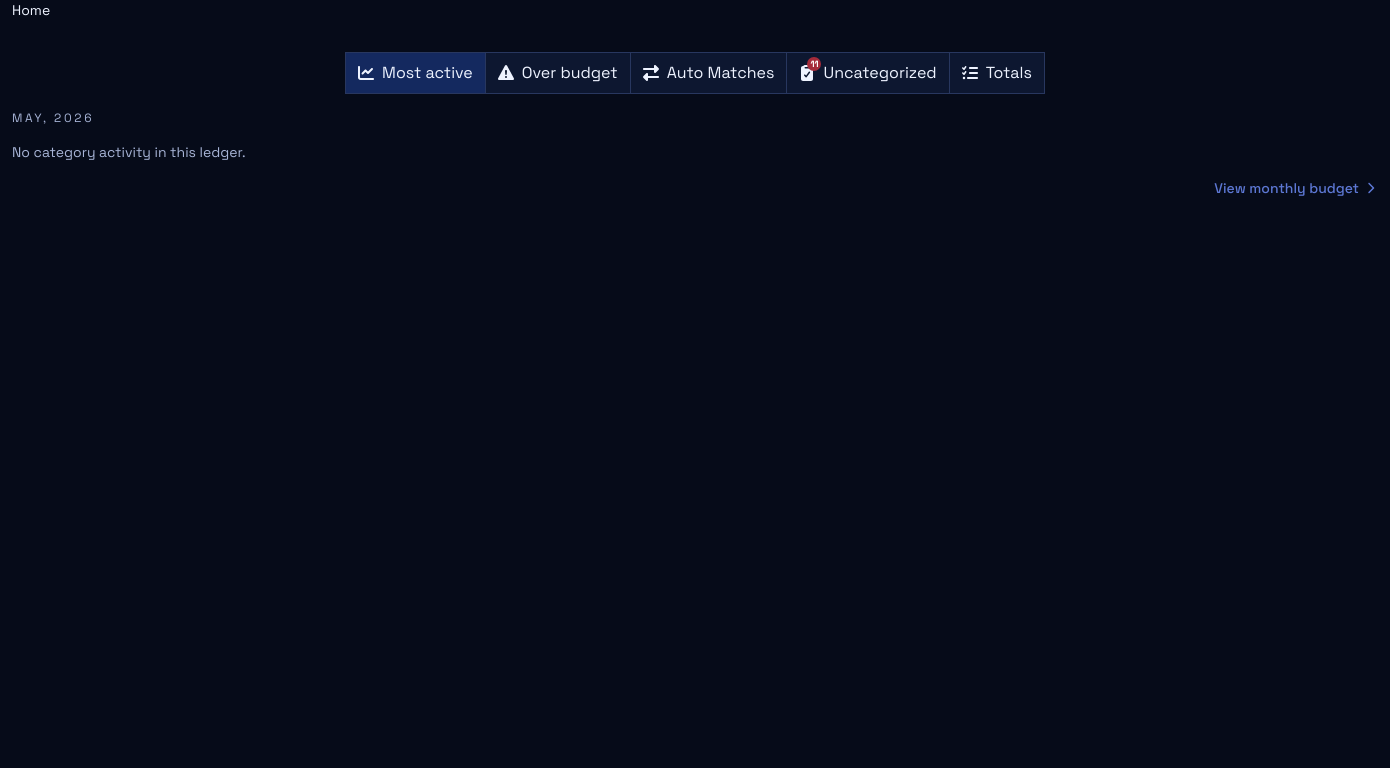
Test: dashboard workspace › shows the displayed and total count when uncategorized transactions exceed ten
The width and height of the screenshot is (1390, 768).
Click the tab "11 Uncategorized" at {"x": 868, "y": 73}, box [786, 53, 949, 93]
(page scrolled)
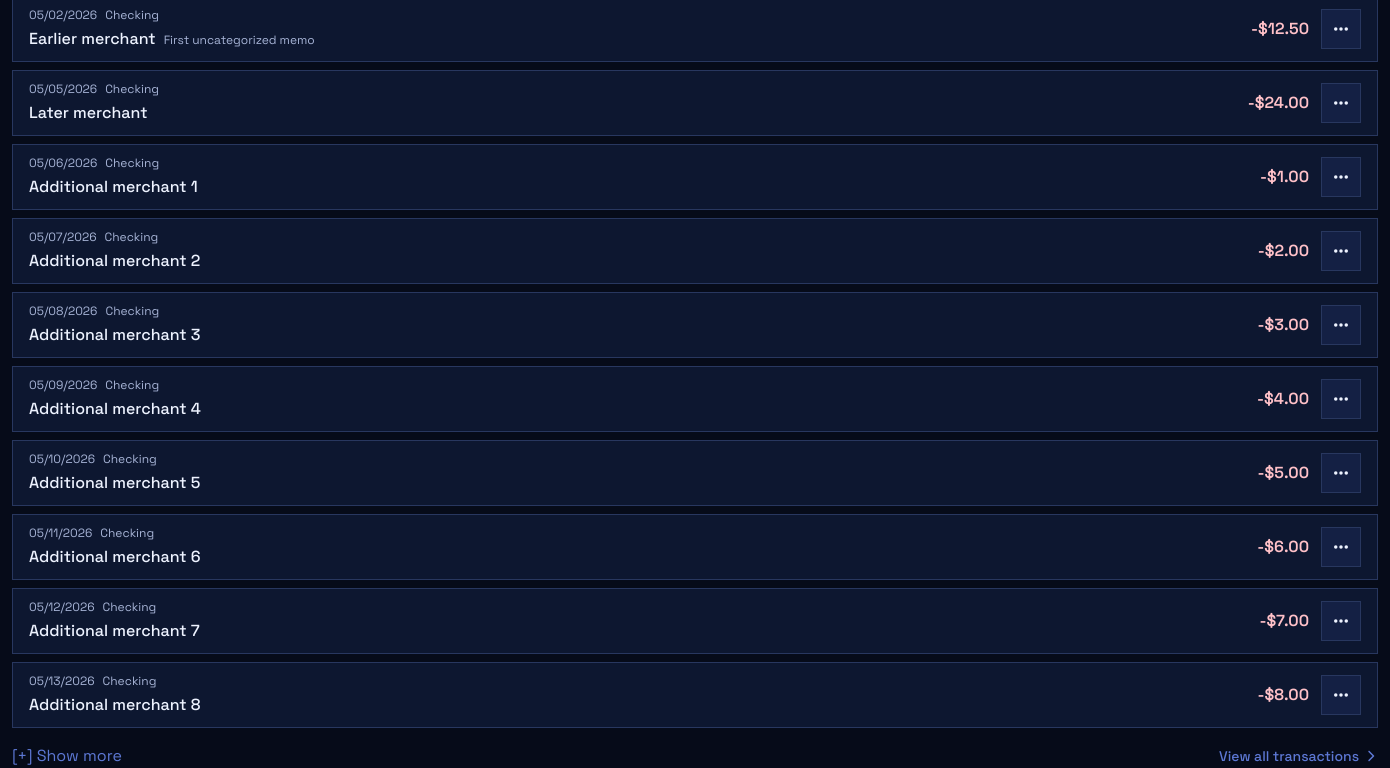
Check: the text "Additional merchant 9" is not shown
Check: the number of buttons named "Transaction actions" is 10
Click the button "[+] Show more" at {"x": 67, "y": 756}, box [12, 744, 122, 767]
(page scrolled)
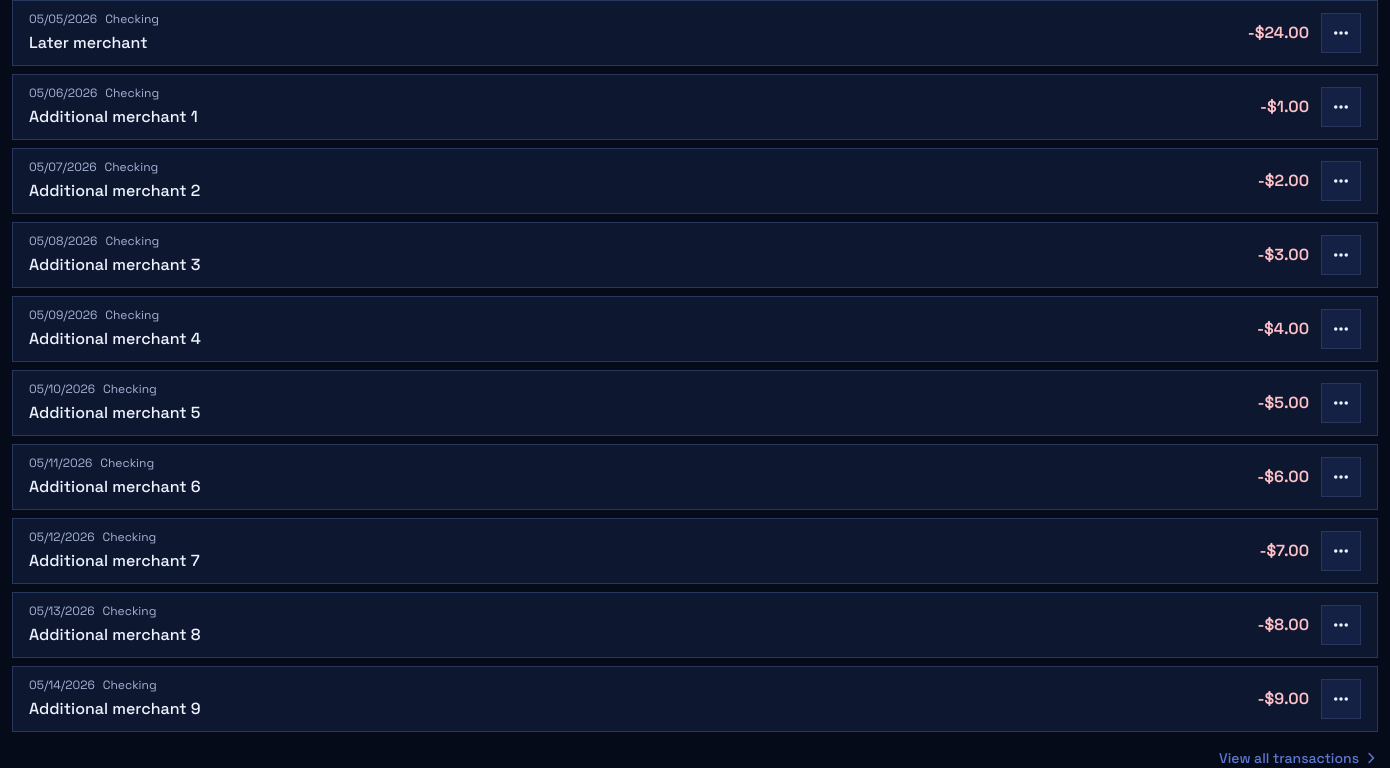
Check: the number of buttons "Transaction actions" is 11
Check: the text "Additional merchant 9" is shown, box [29, 697, 201, 721]
